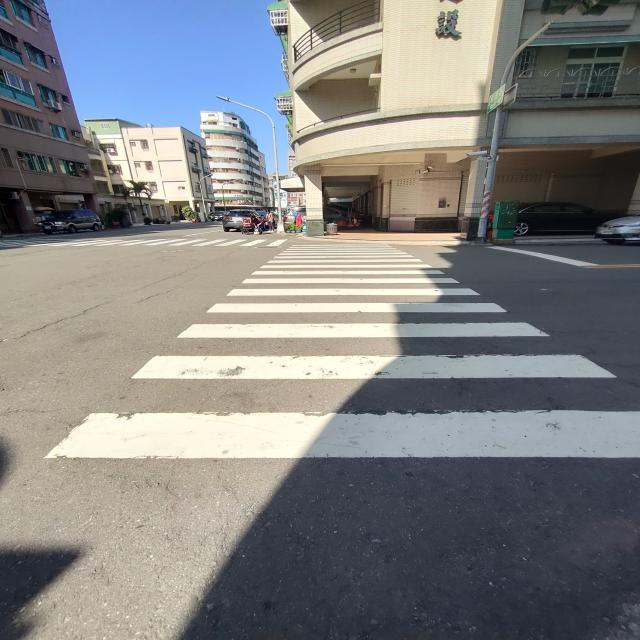zebra crossing: (45, 239, 640, 462), (0, 238, 286, 246)
